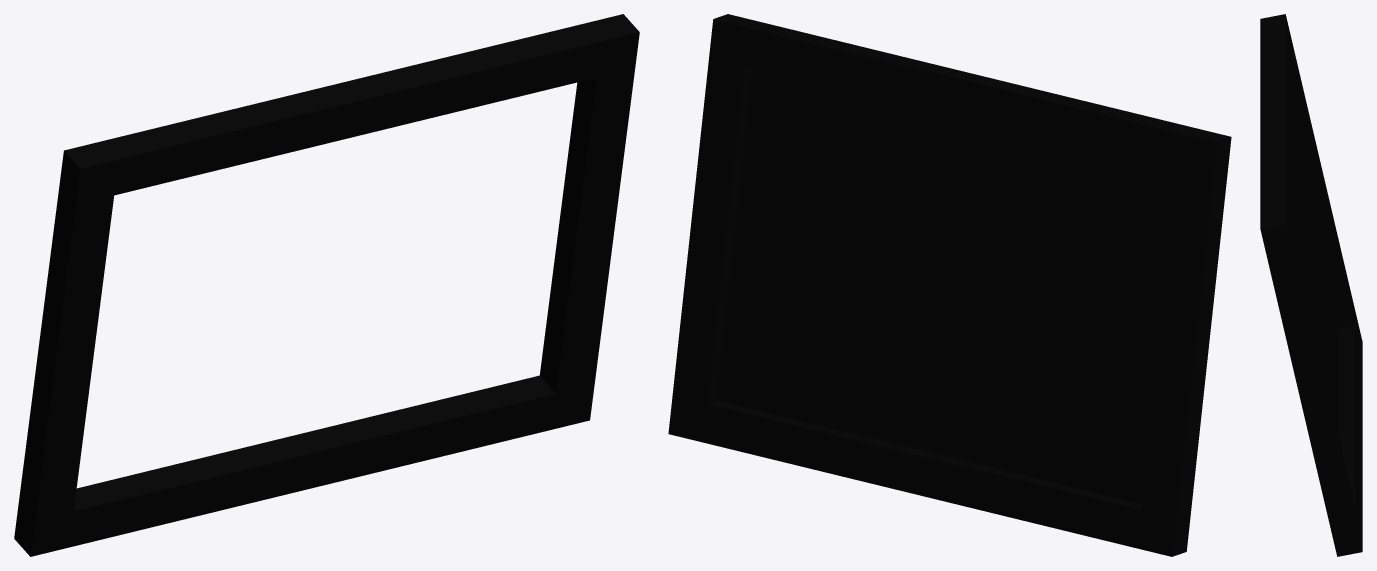
File: SM_painting_fallen.fbx
3 views of the same model, side by side, from view 1: azimuth 30°, elevation 25°; view 2: azimuth 150°, elevation 25°; view 3: azimuth 270°, elevation 25° (orthographic). The views are drawn at different scales.
Parts seen in each view (by area): view 1: painting_fallen; view 2: painting_fallen; view 3: painting_fallen.
Boxes of the visible parts, bbox=[...] form: painting_fallen: bbox=[14, 14, 639, 556]; painting_fallen: bbox=[668, 14, 1231, 556]; painting_fallen: bbox=[1260, 14, 1362, 556].
Bounding box in the file's own units: 1.16 × 0.8537 × 0.2375.
